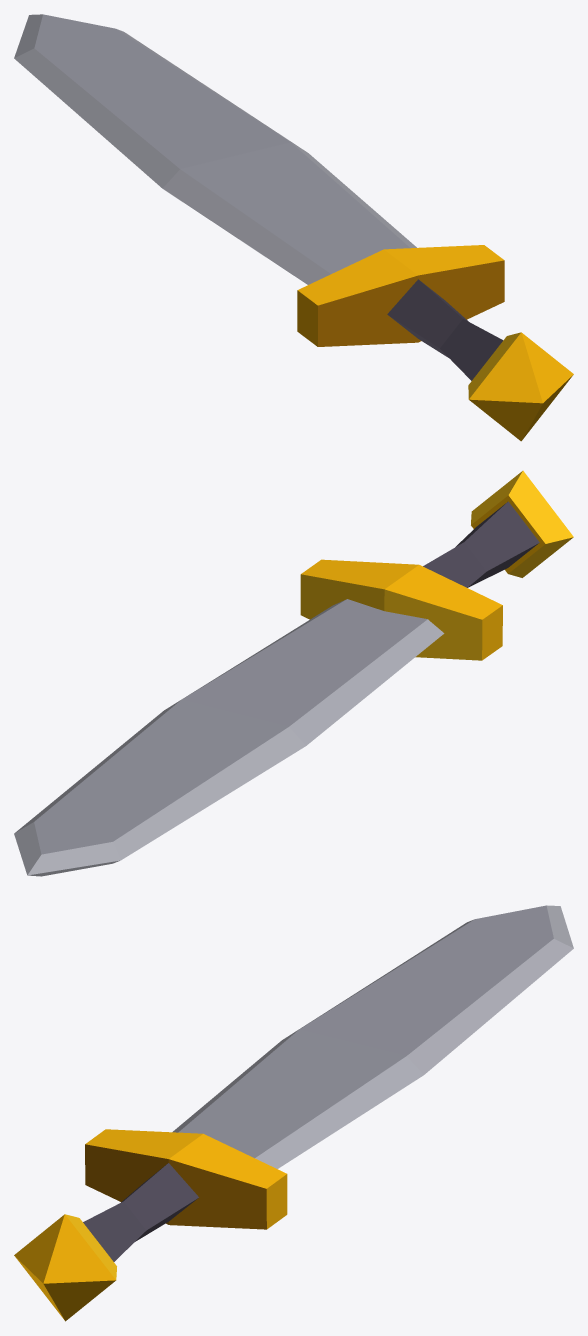
Rendered from Sword_01.glb.
3 renders of one model, top to bottom at view 1: azimuth 30°, elevation 25°; view 2: azimuth 150°, elevation 25°; view 3: azimuth 330°, elevation 25°, orthographic.
Visible parts, largest first — view 1: Sword_01; view 2: Sword_01; view 3: Sword_01.
Boxes of the visible parts, left/top/right/bottom form: Sword_01: left=14, top=14, right=573, bottom=441; Sword_01: left=14, top=470, right=573, bottom=876; Sword_01: left=14, top=905, right=573, bottom=1321.
Size of what is drawn, in the model's own units: 0.2144 by 0.1206 by 1.04.
1 material, 1 textured.
